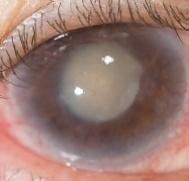eye: (14, 29, 184, 159)
